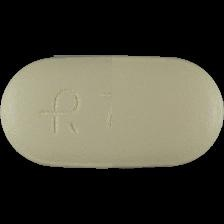0228-2752: (0, 0, 224, 224)
